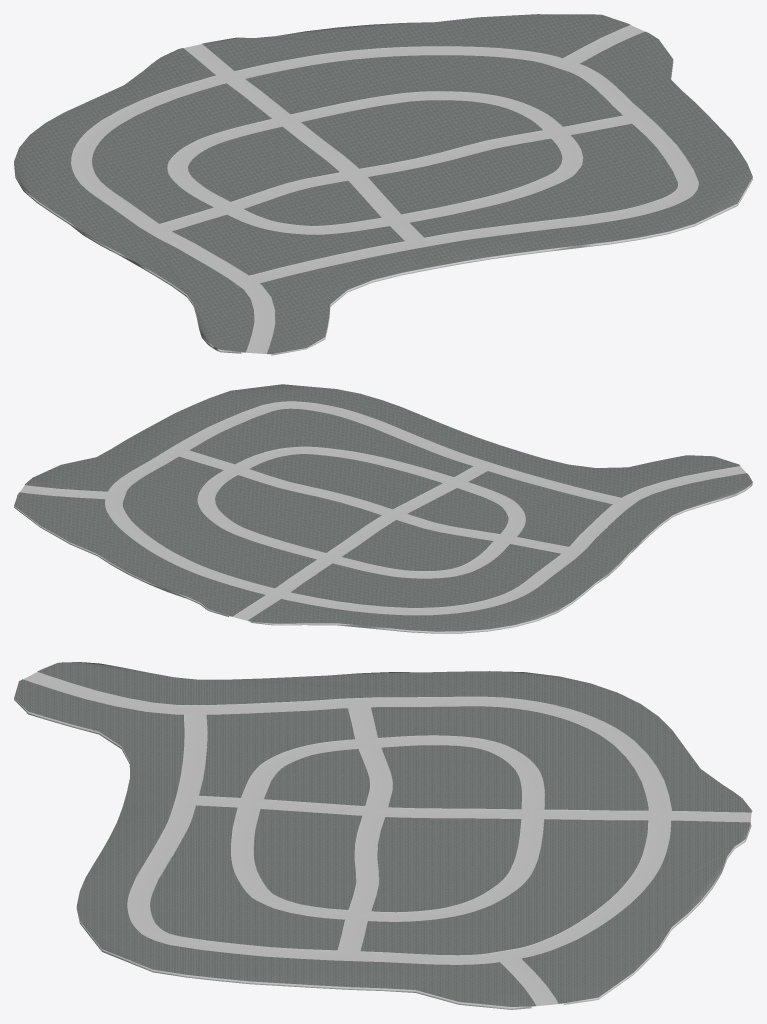
File: boden_dorf.fbx
3 renders of one model, top to bottom at view 1: azimuth 30°, elevation 25°; view 2: azimuth 150°, elevation 25°; view 3: azimuth 270°, elevation 25°, orthographic. The views are drawn at different scales.
Visible parts, largest first — view 1: Mesh; view 2: Mesh; view 3: Mesh.
Part boxes in pixels (x1,y1,x2,y2): Mesh: [14, 14, 752, 355]; Mesh: [14, 384, 752, 633]; Mesh: [14, 662, 752, 1009].
Size of the model in its own units: 25368 by 100 by 22965.
